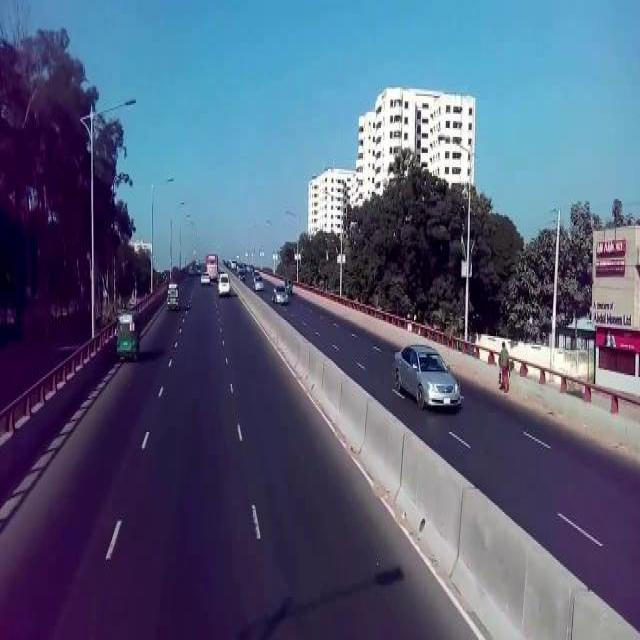17: (113, 308, 141, 364), (165, 278, 181, 312), (284, 276, 292, 296)
5: (392, 340, 462, 414)
9: (217, 270, 231, 299)
Truck: (204, 252, 216, 278)
